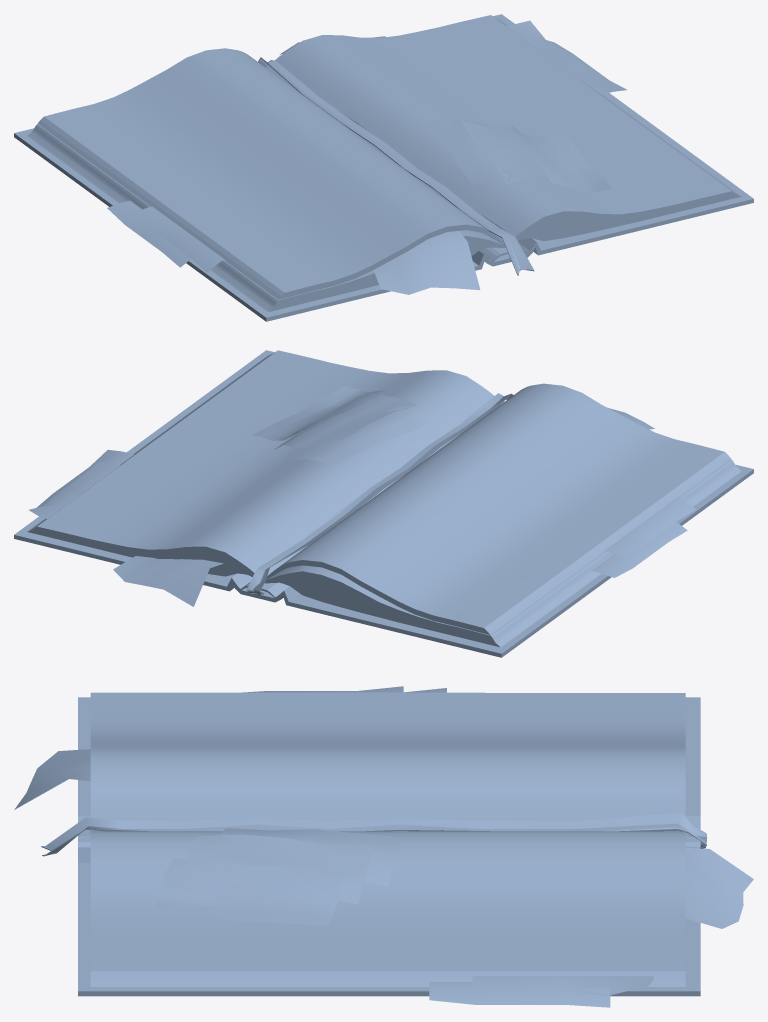
The model's file is SM_book.fbx.
The picture shows the model from 3 angles, top to bottom: view 1: azimuth 30°, elevation 25°; view 2: azimuth 150°, elevation 25°; view 3: azimuth 270°, elevation 25°; orthographic projection. The views are drawn at different scales.
Visible parts, largest first — view 1: Account_log_open:polySurface1; view 2: Account_log_open:polySurface1; view 3: Account_log_open:polySurface1.
Part boxes in pixels (bbox=[...]): Account_log_open:polySurface1: bbox=[14, 14, 753, 321]; Account_log_open:polySurface1: bbox=[14, 350, 753, 657]; Account_log_open:polySurface1: bbox=[14, 686, 753, 1007].
Size of the model in its own units: 46.21 by 4.25 by 46.69.
